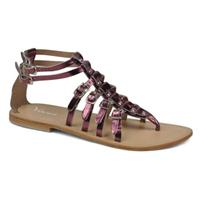shoe: (8, 46, 192, 151)
